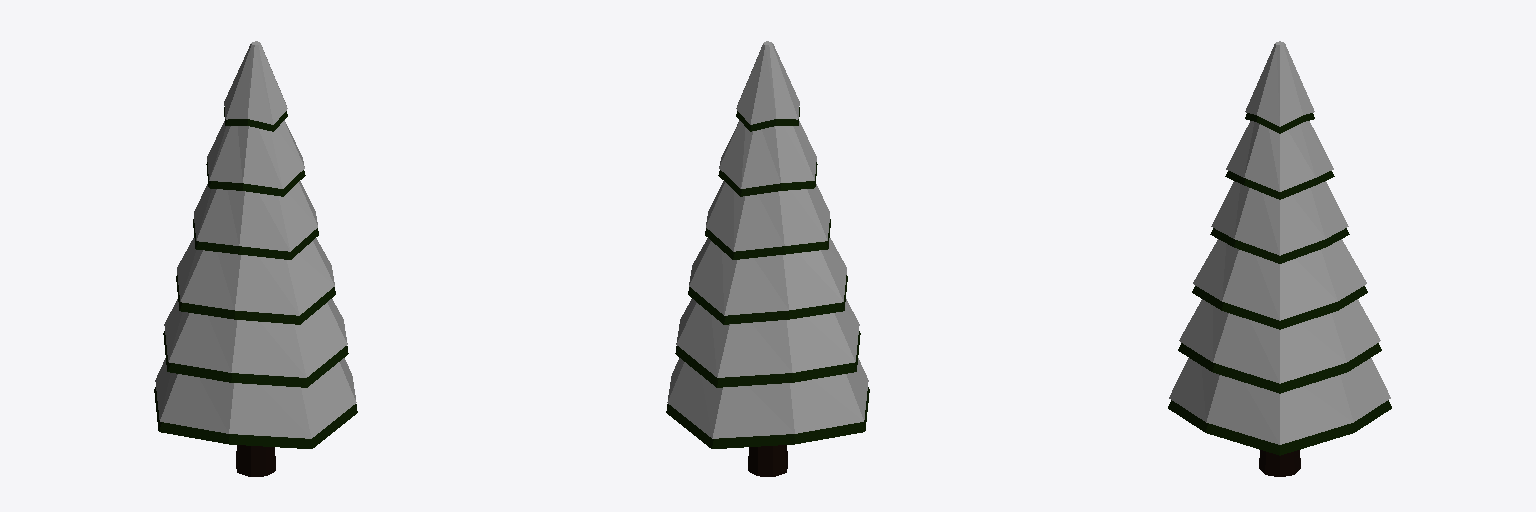
File: SnowTree_1.obj
3 views of the same model, side by side, from view 1: azimuth 30°, elevation 25°; view 2: azimuth 150°, elevation 25°; view 3: azimuth 270°, elevation 25° (orthographic).
Visible parts, largest first — view 1: tree_Cylinder.007; view 2: tree_Cylinder.007; view 3: tree_Cylinder.007.
Boxes of the visible parts, box(x1,y1,x2,y2) form: tree_Cylinder.007: box(154, 41, 357, 476); tree_Cylinder.007: box(666, 41, 869, 476); tree_Cylinder.007: box(1168, 41, 1391, 476).
Bounding box in the file's own units: 1.35 × 2.81 × 1.35.